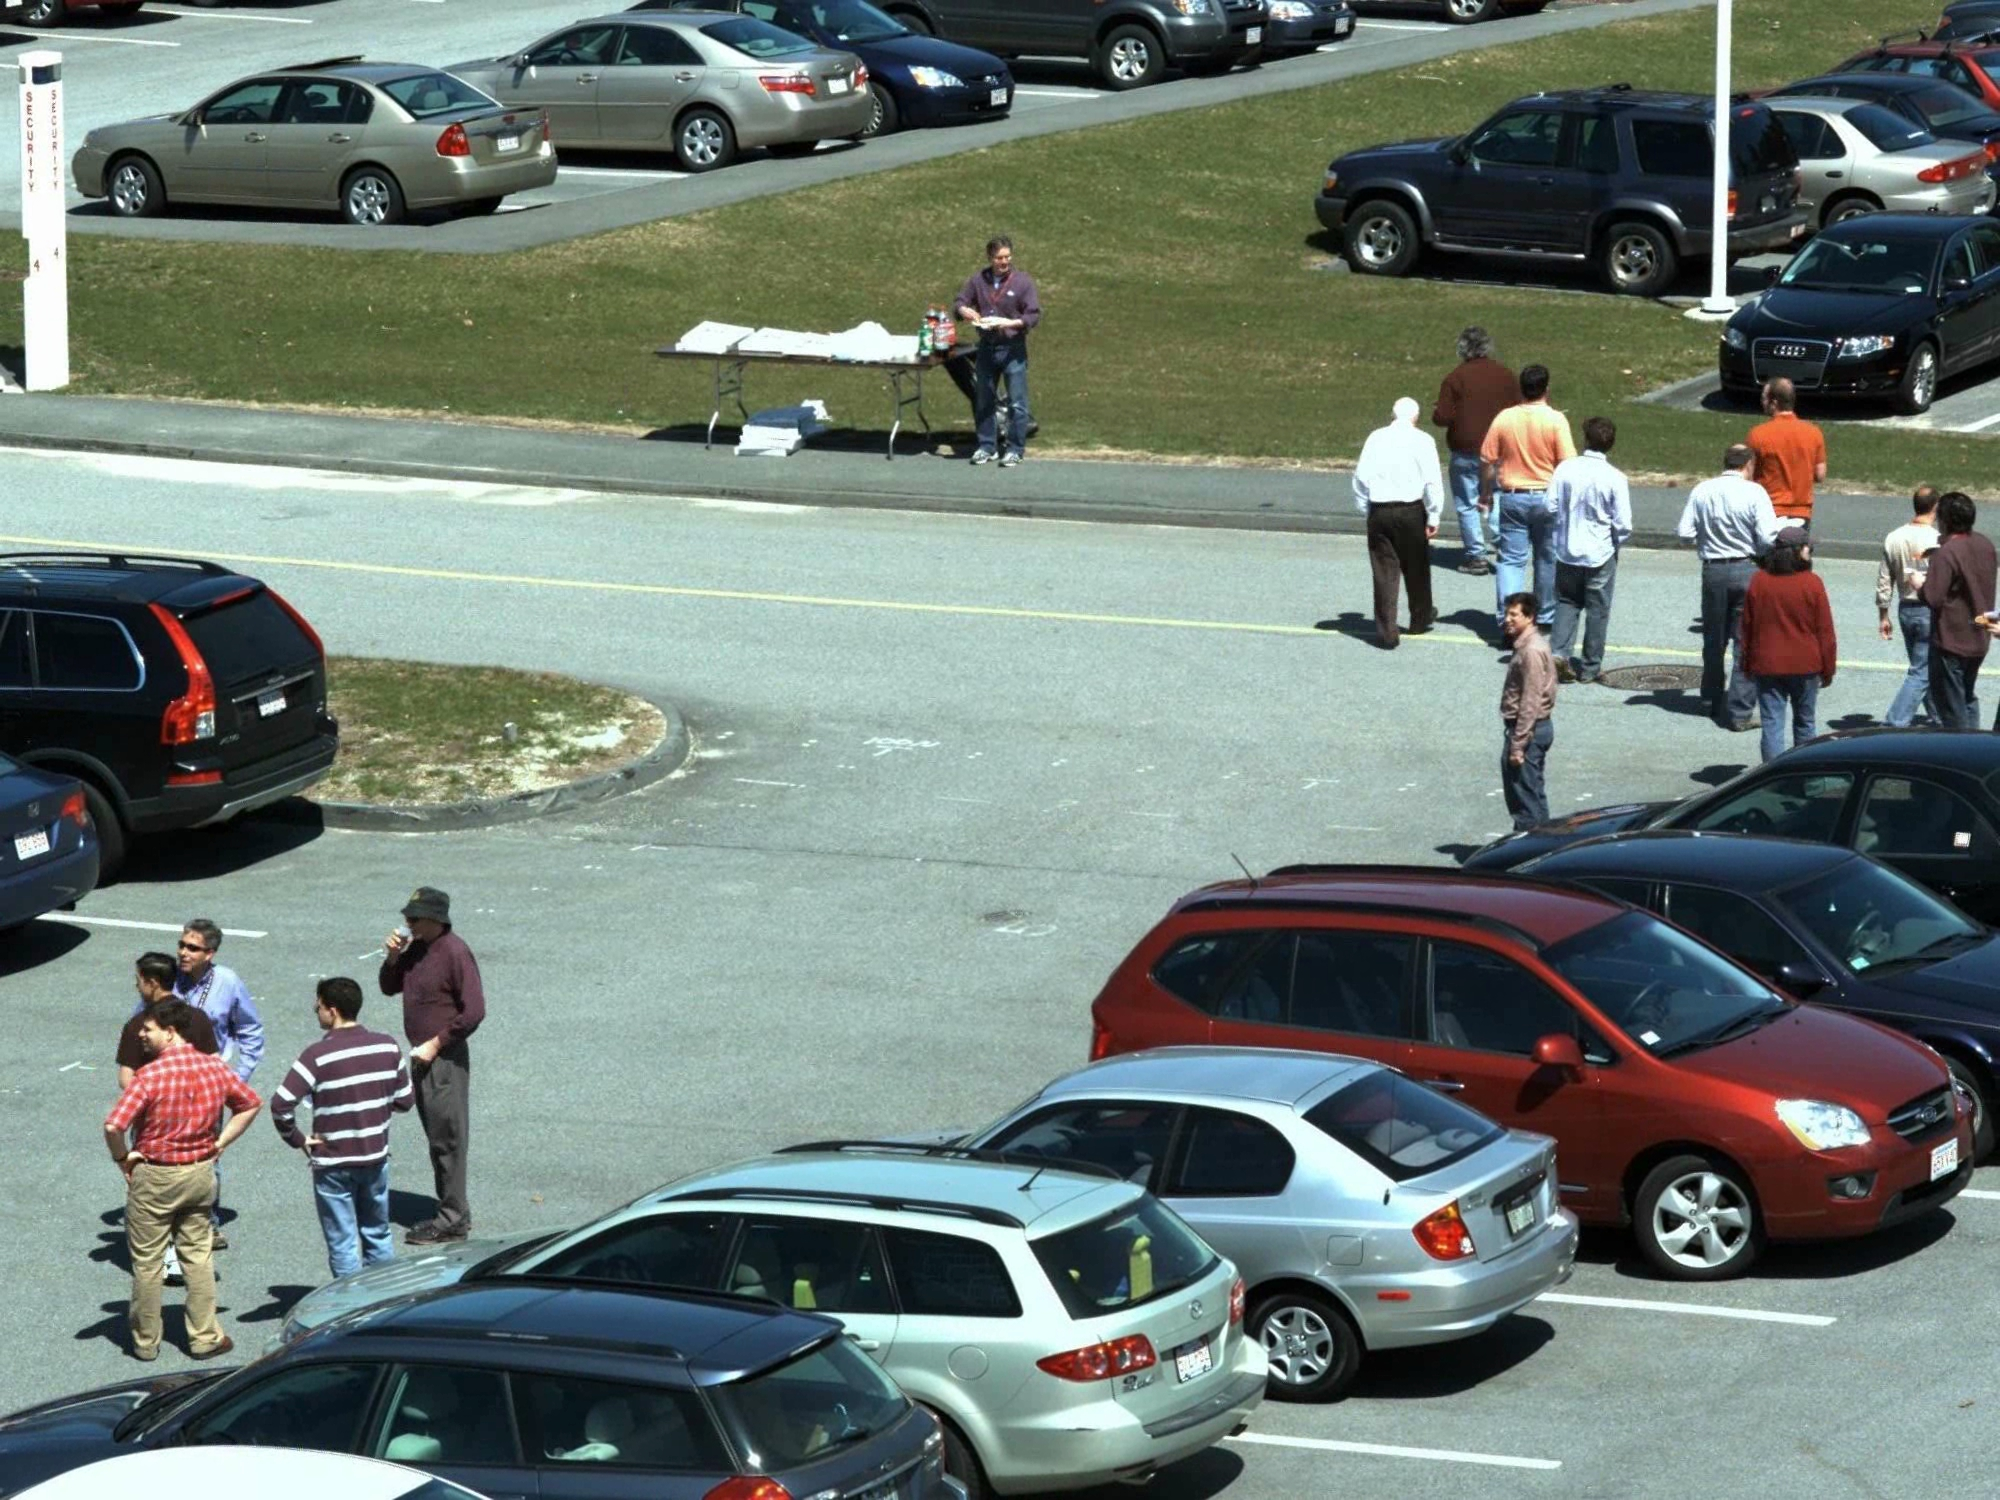person: (105, 954, 223, 1270), (119, 910, 241, 1203), (372, 872, 476, 1208), (306, 972, 415, 1257), (1694, 416, 1783, 744), (128, 1003, 211, 1330), (1344, 378, 1442, 652), (1903, 486, 1997, 758), (946, 226, 1046, 474), (1485, 580, 1573, 854), (1478, 372, 1564, 624), (1451, 327, 1531, 594), (1754, 384, 1818, 682), (1762, 526, 1843, 750), (1553, 417, 1613, 680), (1861, 491, 1939, 687), (1918, 539, 1983, 756)
